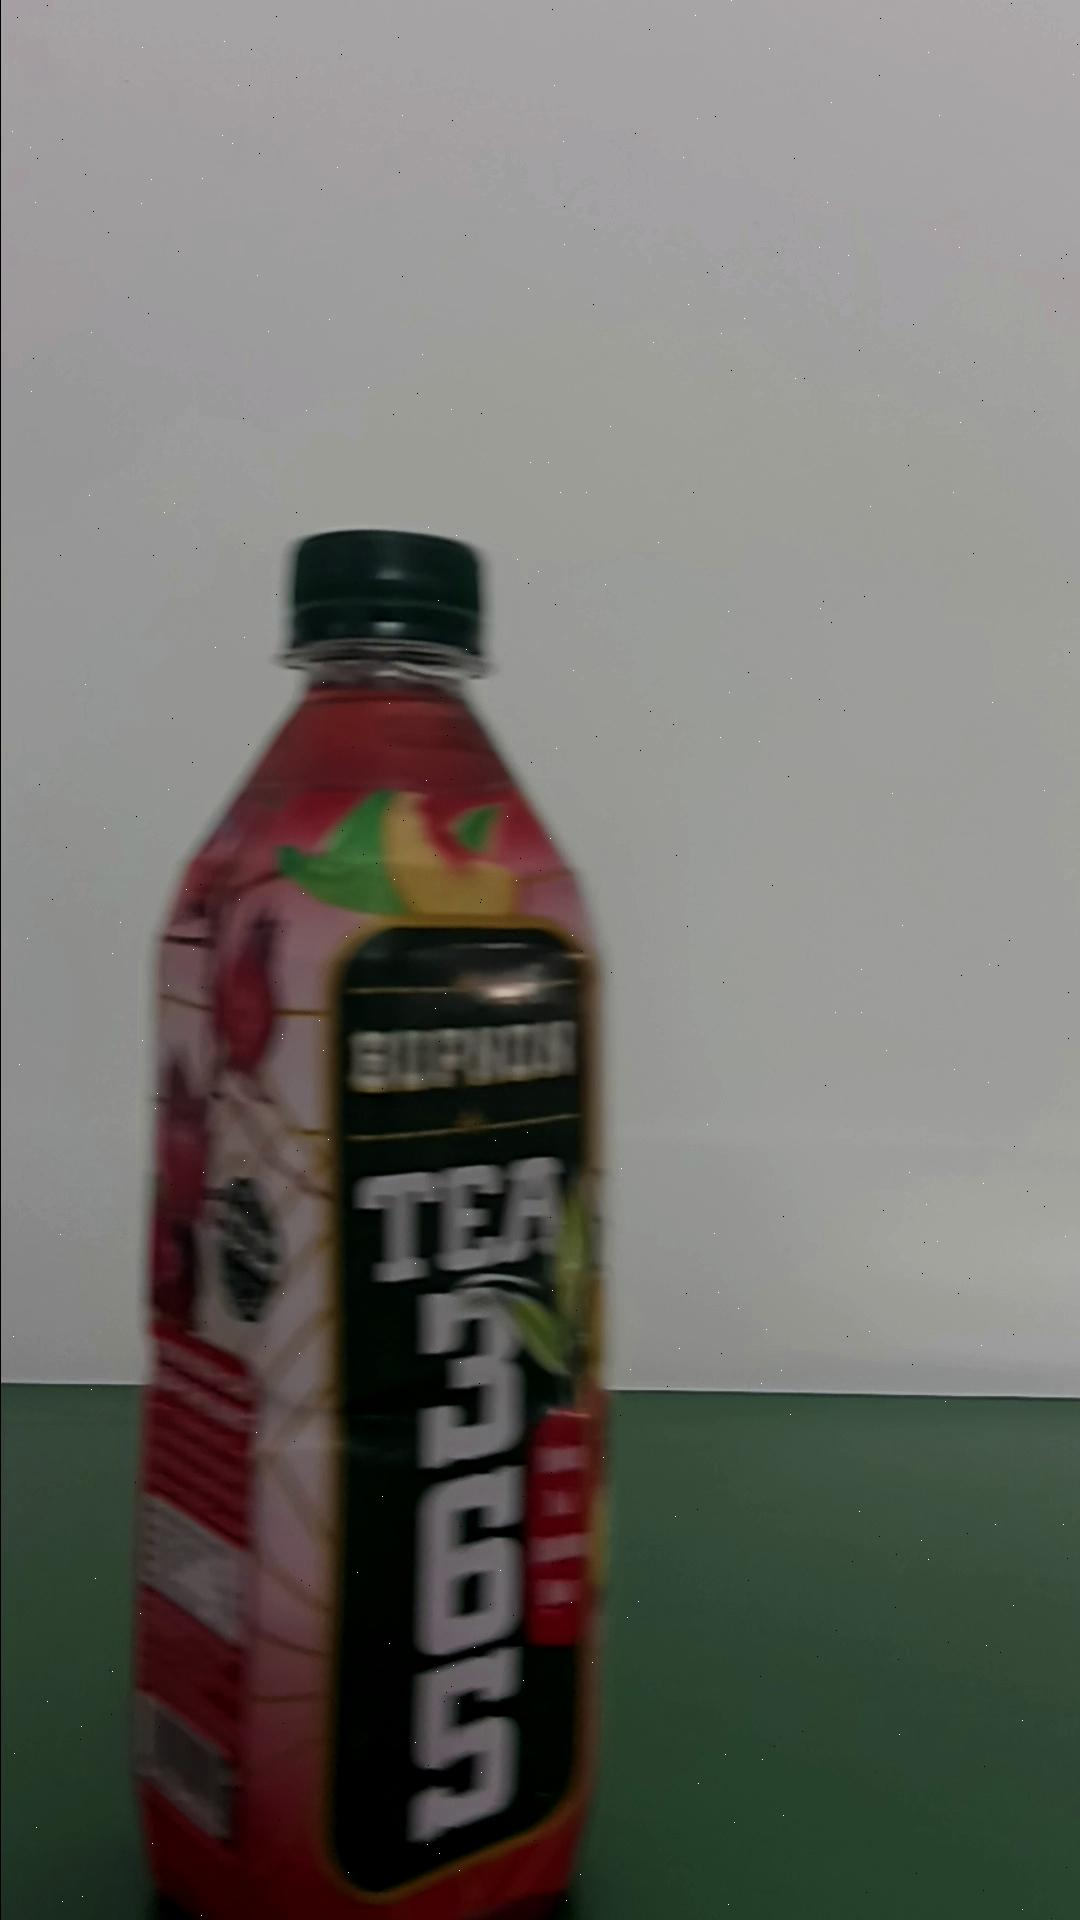khong loi: (128, 525, 612, 1915)
